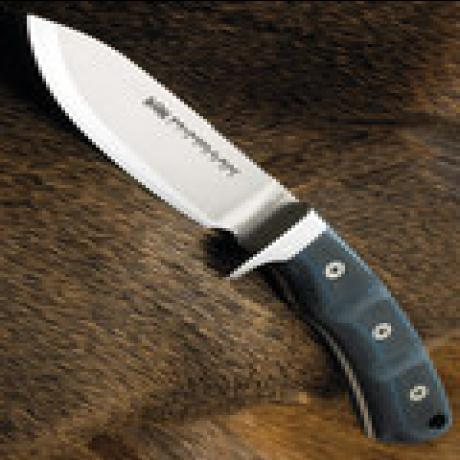weapon: (5, 13, 457, 414)
